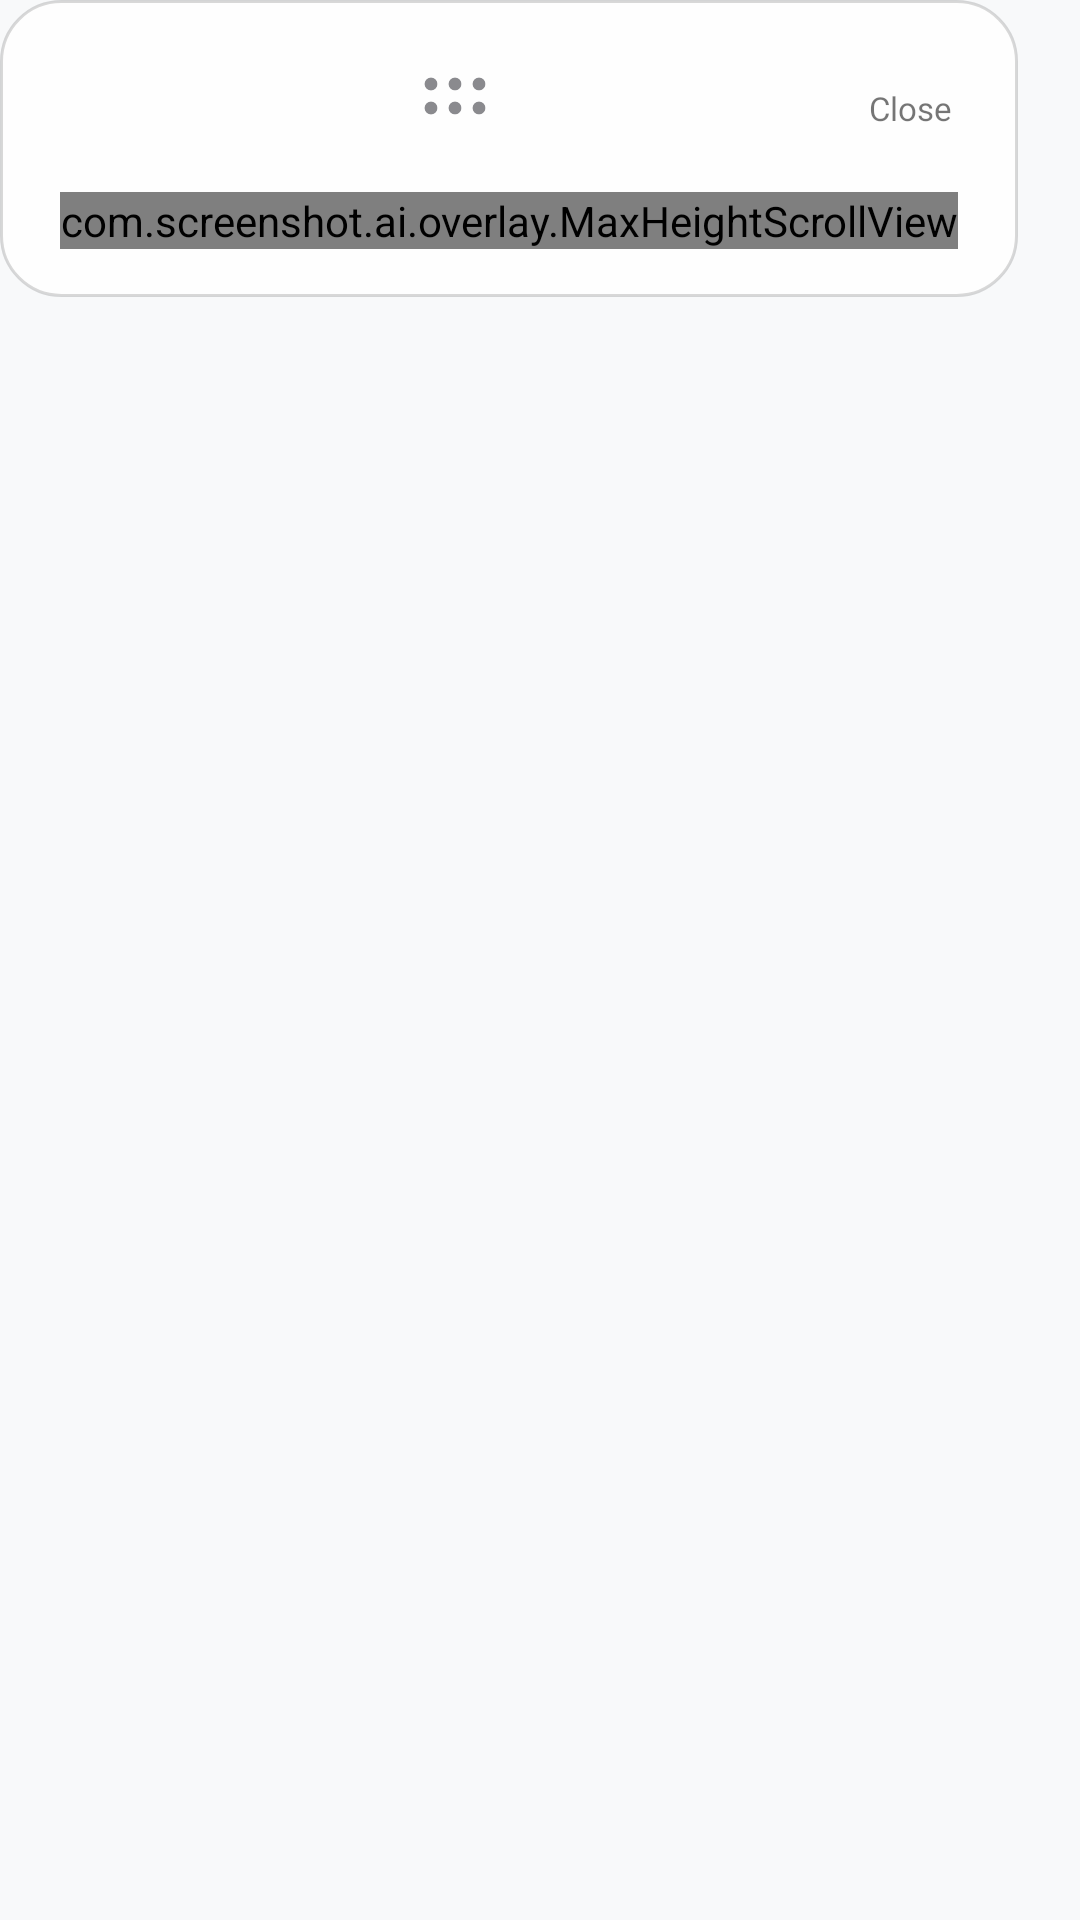

Icons on this 1080w x 1920h Android screen, each with the point to tap as (x=x, y=y):
Drag window: (x=455, y=96)
